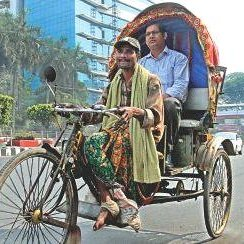Rickshaw: (1, 0, 234, 204)
